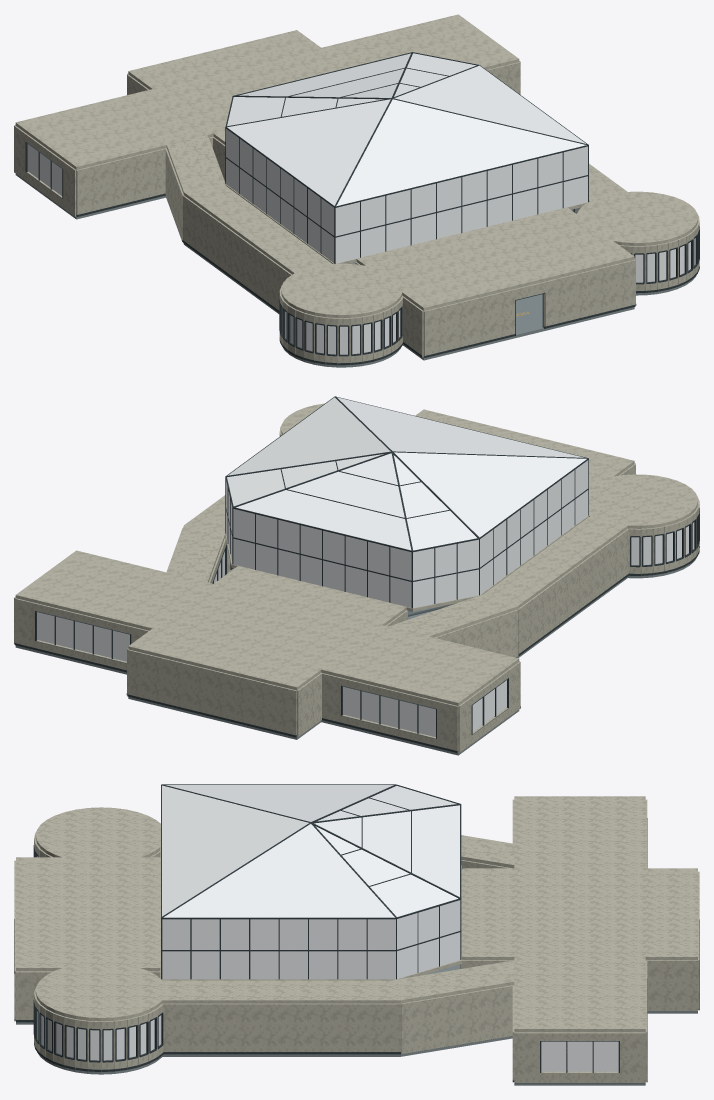
Rendered from SurfaceResearchInterior.fbx.
3 views of the same model, one above another, from view 1: azimuth 30°, elevation 25°; view 2: azimuth 150°, elevation 25°; view 3: azimuth 270°, elevation 25° (orthographic). The views are drawn at different scales.
Visible parts, largest first — view 1: SI_08_Ceilings__SI_Existing_Ivory_Wall, SI_08_Ceilings__SI_Clear_Observation_Glass, SI_02_Walls__SI_Existing_Ivory_Wall, SI_08_Ceilings__SI_Existing_Graphite_Frame, SI_04_Frames__SI_Existing_Graphite_Frame, SI_03_Glazing__SI_Clear_Observation_Glass, SI_01_Floors__SI_Concrete_Resin_Floor; view 2: SI_08_Ceilings__SI_Existing_Ivory_Wall, SI_08_Ceilings__SI_Clear_Observation_Glass, SI_02_Walls__SI_Existing_Ivory_Wall, SI_03_Glazing__SI_Clear_Observation_Glass, SI_08_Ceilings__SI_Existing_Graphite_Frame, SI_04_Frames__SI_Existing_Graphite_Frame, SI_01_Floors__SI_Concrete_Resin_Floor; view 3: SI_08_Ceilings__SI_Existing_Ivory_Wall, SI_08_Ceilings__SI_Clear_Observation_Glass, SI_02_Walls__SI_Existing_Ivory_Wall, SI_08_Ceilings__SI_Existing_Graphite_Frame, SI_03_Glazing__SI_Clear_Observation_Glass, SI_04_Frames__SI_Existing_Graphite_Frame, SI_01_Floors__SI_Concrete_Resin_Floor.
Part boxes in pixels (x1,y1,x2,y2): SI_08_Ceilings__SI_Existing_Ivory_Wall: (15,14,697,318); SI_08_Ceilings__SI_Clear_Observation_Glass: (226,53,587,263); SI_02_Walls__SI_Existing_Ivory_Wall: (14,61,699,364); SI_08_Ceilings__SI_Existing_Graphite_Frame: (225,52,588,263); SI_04_Frames__SI_Existing_Graphite_Frame: (14,141,699,365); SI_03_Glazing__SI_Clear_Observation_Glass: (27,144,695,354); SI_01_Floors__SI_Concrete_Resin_Floor: (15,174,696,367); SI_08_Ceilings__SI_Existing_Ivory_Wall: (15,403,697,705); SI_08_Ceilings__SI_Clear_Observation_Glass: (226,397,588,607); SI_02_Walls__SI_Existing_Ivory_Wall: (14,425,699,752); SI_03_Glazing__SI_Clear_Observation_Glass: (37,522,694,736); SI_08_Ceilings__SI_Existing_Graphite_Frame: (225,396,588,608); SI_04_Frames__SI_Existing_Graphite_Frame: (14,508,699,752); SI_01_Floors__SI_Concrete_Resin_Floor: (15,559,695,755); SI_08_Ceilings__SI_Existing_Ivory_Wall: (16,796,697,1032); SI_08_Ceilings__SI_Clear_Observation_Glass: (162,785,460,979); SI_02_Walls__SI_Existing_Ivory_Wall: (14,799,699,1082); SI_08_Ceilings__SI_Existing_Graphite_Frame: (161,784,461,979); SI_03_Glazing__SI_Clear_Observation_Glass: (37,856,618,1071); SI_04_Frames__SI_Existing_Graphite_Frame: (14,818,699,1083); SI_01_Floors__SI_Concrete_Resin_Floor: (16,964,697,1085).
Size of the model in its own units: 4232 by 1336 by 5231.
9 materials, 2 textured.
